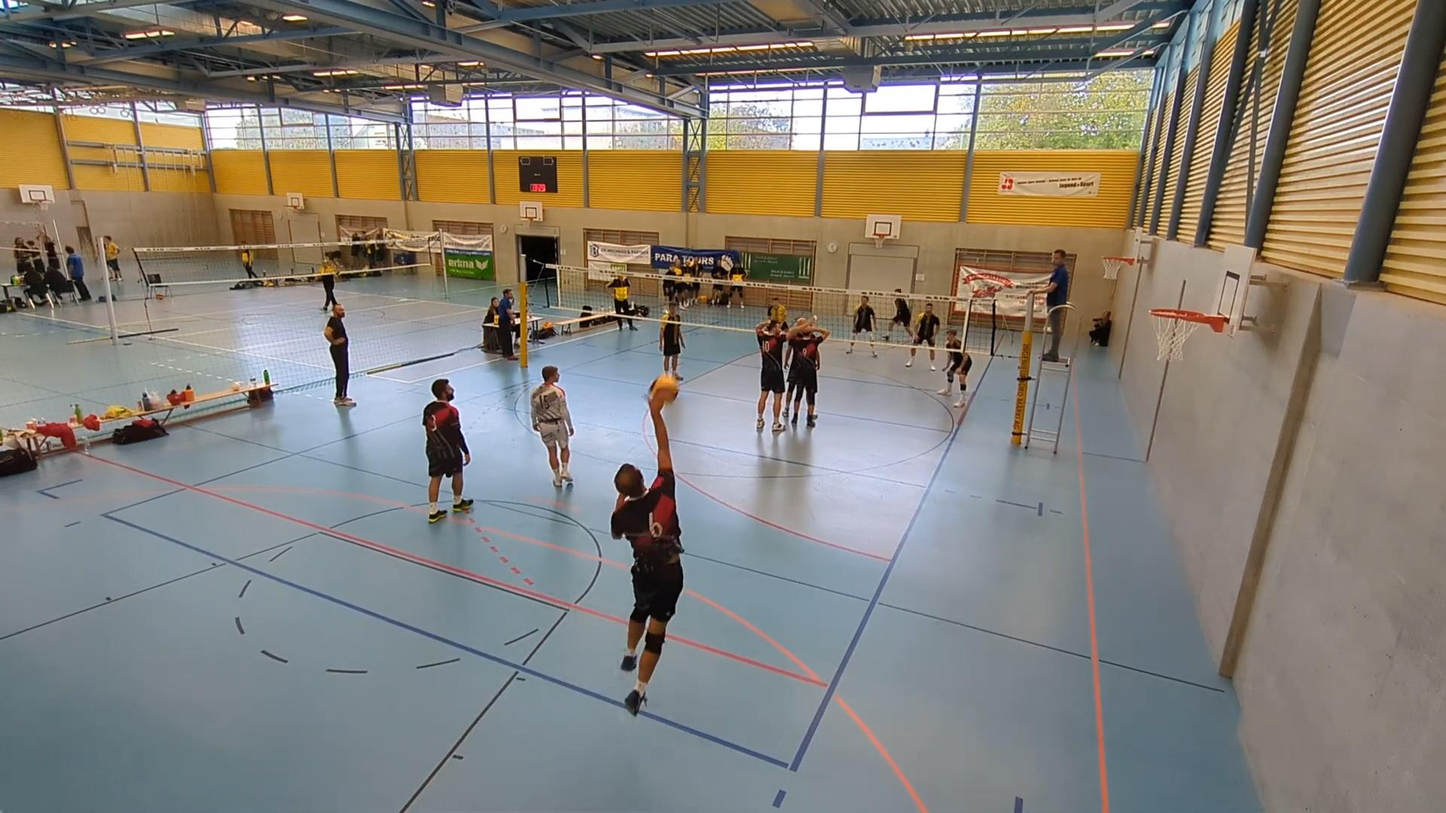battuta: (609, 372, 692, 721)
